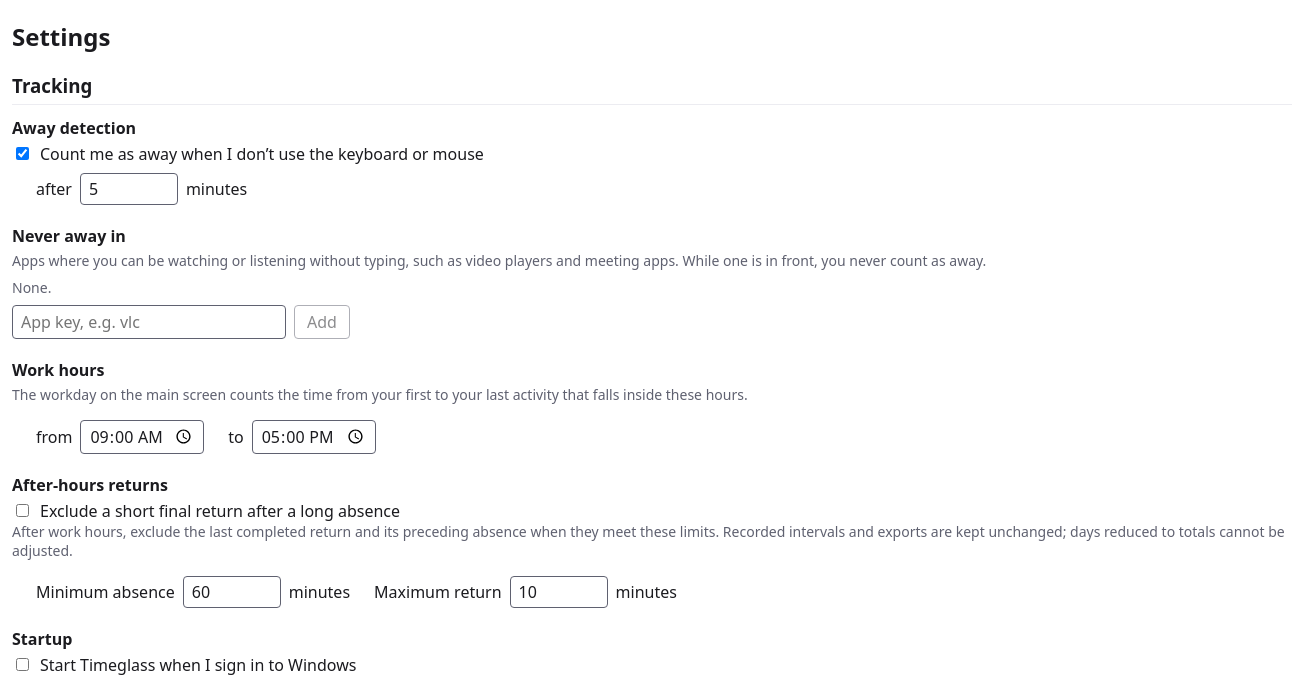
Scenario: SettingsView › saves new work hours (#110)
Replace the text in the time field labelled "from" with "08:30" at coordinates (142, 437), box [80,420,204,454]
(page scrolled)
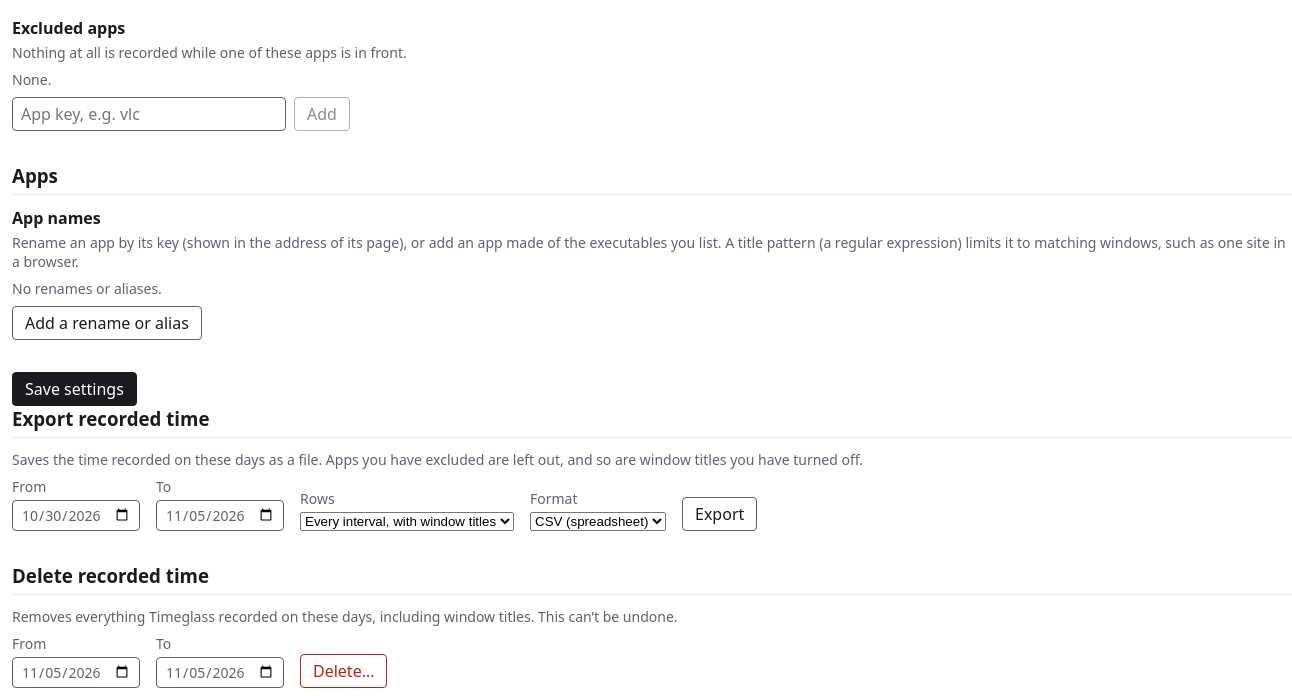
Click the button "Save settings" at coordinates (74, 389), box [12,372,137,406]
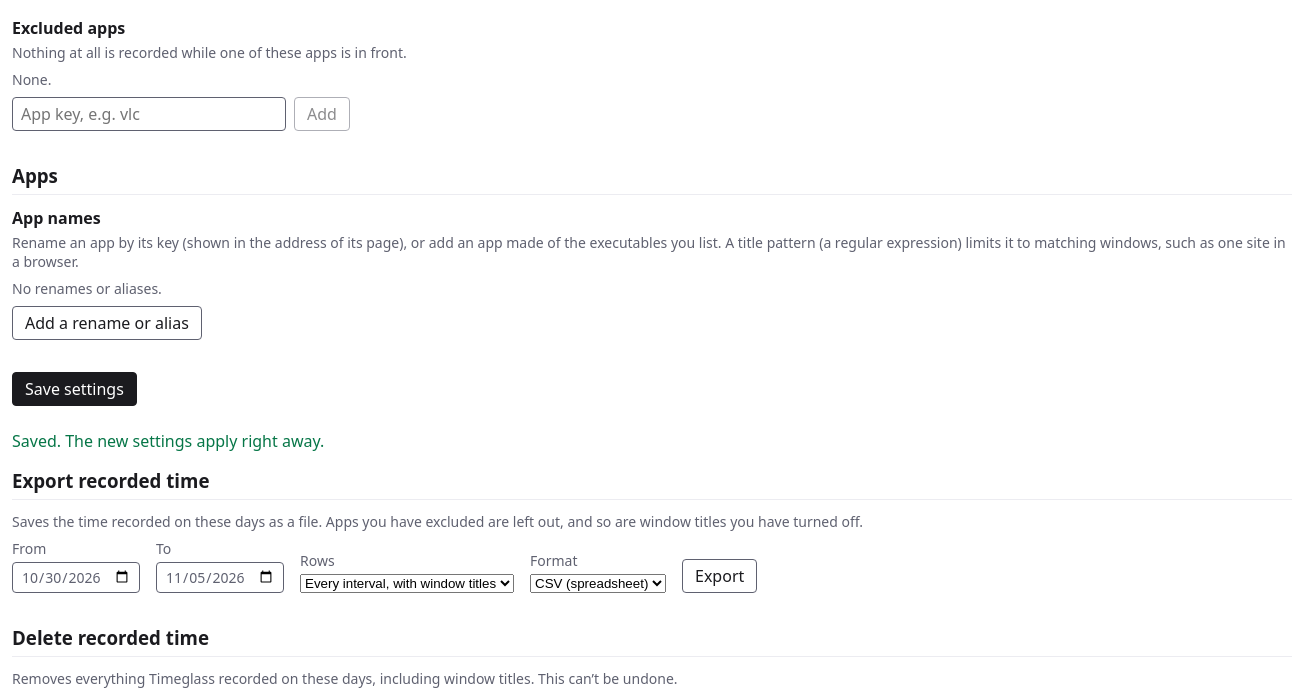
Check: the text "Saved. The new settings apply right away." is shown, box [12,430,324,452]
